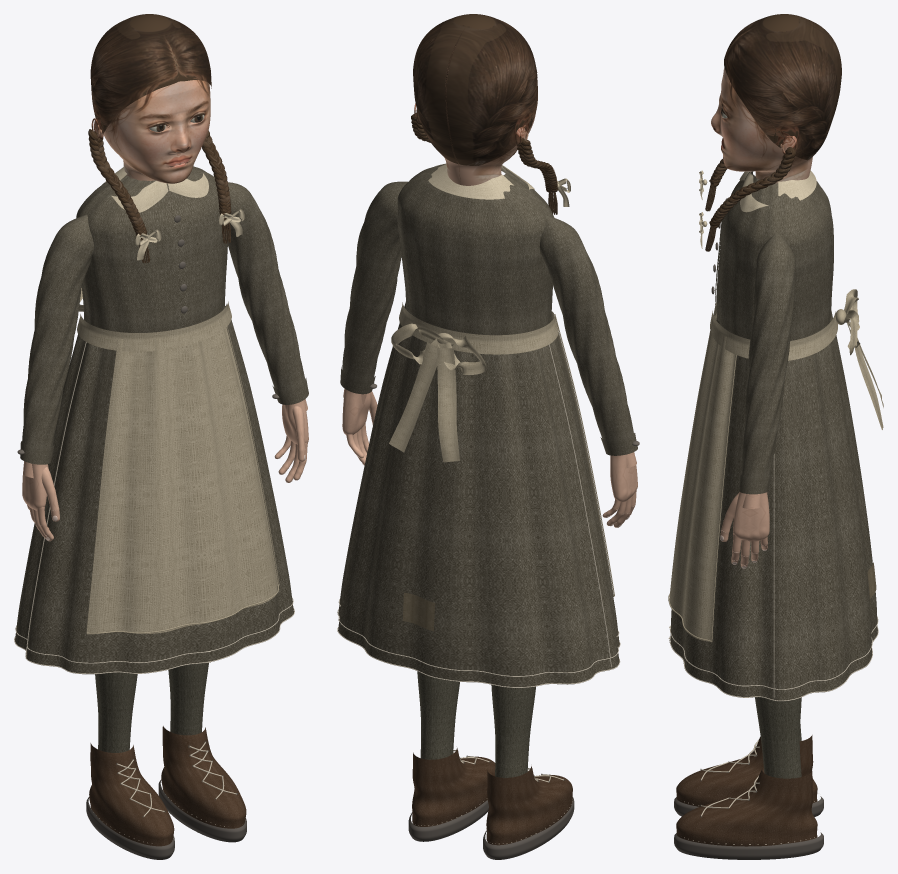
File: caecilia_gabriel_v01.glb
3 renders of one model, left to right at view 1: azimuth 30°, elevation 25°; view 2: azimuth 150°, elevation 25°; view 3: azimuth 270°, elevation 25°, orthographic. The views are drawn at different scales.
Visible parts, largest first — view 1: apron, dress-skirt, bodice, sleeve--1, hair-cap, face, sleeve-1, boot-upper-1, boot-upper--1, stocking--1, waistband, stocking-1 (+11 smaller); view 2: dress-skirt, bodice, hair-cap, sleeve--1, sleeve-1, boot-upper--1, boot-upper-1, stocking--1, stocking-1, waistband, apron-tie--1, apron-tie-1 (+12 smaller); view 3: dress-skirt, bodice, hair-cap, apron, sleeve-1, boot-upper-1, face, boot-upper--1, stocking-1, hand-1, boot-sole-1, waistband (+6 smaller).
Part boxes in pixels (left/top/right/bottom): apron: left=87, top=319, right=278, bottom=634; dress-skirt: left=15, top=304, right=293, bottom=673; bodice: left=76, top=166, right=228, bottom=332; sleeve--1: left=22, top=214, right=93, bottom=447; hair-cap: left=90, top=14, right=211, bottom=133; face: left=104, top=80, right=210, bottom=183; sleeve-1: left=228, top=182, right=304, bottom=389; boot-upper-1: left=161, top=726, right=246, bottom=828; boot-upper--1: left=89, top=743, right=174, bottom=846; stocking--1: left=95, top=672, right=137, bottom=752; waistband: left=77, top=301, right=231, bottom=351; stocking-1: left=168, top=662, right=208, bottom=735; dress-skirt: left=338, top=302, right=619, bottom=686; bodice: left=397, top=164, right=554, bottom=335; hair-cap: left=413, top=14, right=537, bottom=165; sleeve--1: left=539, top=215, right=633, bottom=439; sleeve-1: left=342, top=181, right=408, bottom=379; boot-upper--1: left=486, top=766, right=572, bottom=845; boot-upper-1: left=412, top=748, right=495, bottom=826; stocking--1: left=491, top=684, right=535, bottom=777; stocking-1: left=417, top=671, right=459, bottom=759; waistband: left=399, top=302, right=558, bottom=354; apron-tie--1: left=437, top=348, right=459, bottom=462; apron-tie-1: left=389, top=342, right=439, bottom=452; dress-skirt: left=670, top=311, right=877, bottom=701; bodice: left=716, top=171, right=833, bottom=340; hair-cap: left=724, top=14, right=841, bottom=160; apron: left=669, top=302, right=736, bottom=642; sleeve-1: left=741, top=233, right=795, bottom=476; boot-upper-1: left=676, top=769, right=817, bottom=846; face: left=711, top=67, right=812, bottom=183; boot-upper--1: left=676, top=735, right=817, bottom=806; stocking-1: left=755, top=697, right=801, bottom=778; hand-1: left=720, top=492, right=769, bottom=566; boot-sole-1: left=674, top=832, right=823, bottom=859; waistband: left=710, top=311, right=837, bottom=360.
Bounding box in the file's own units: 0.4641 × 1.22 × 0.2933.
Materials: 21 (14 with a texture image).
